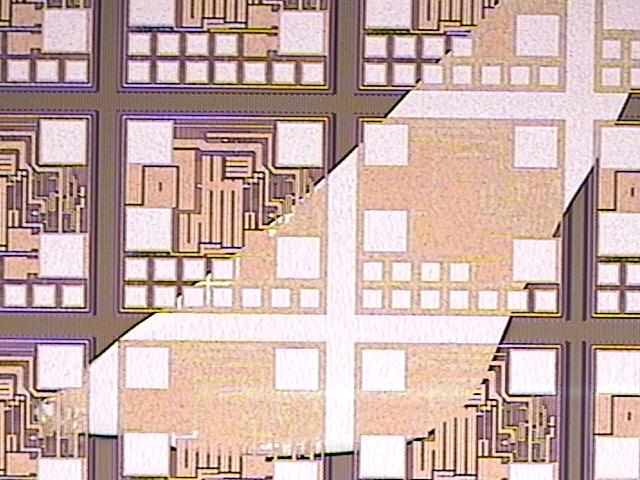BLOCK ETCH: (30, 1, 640, 461)
